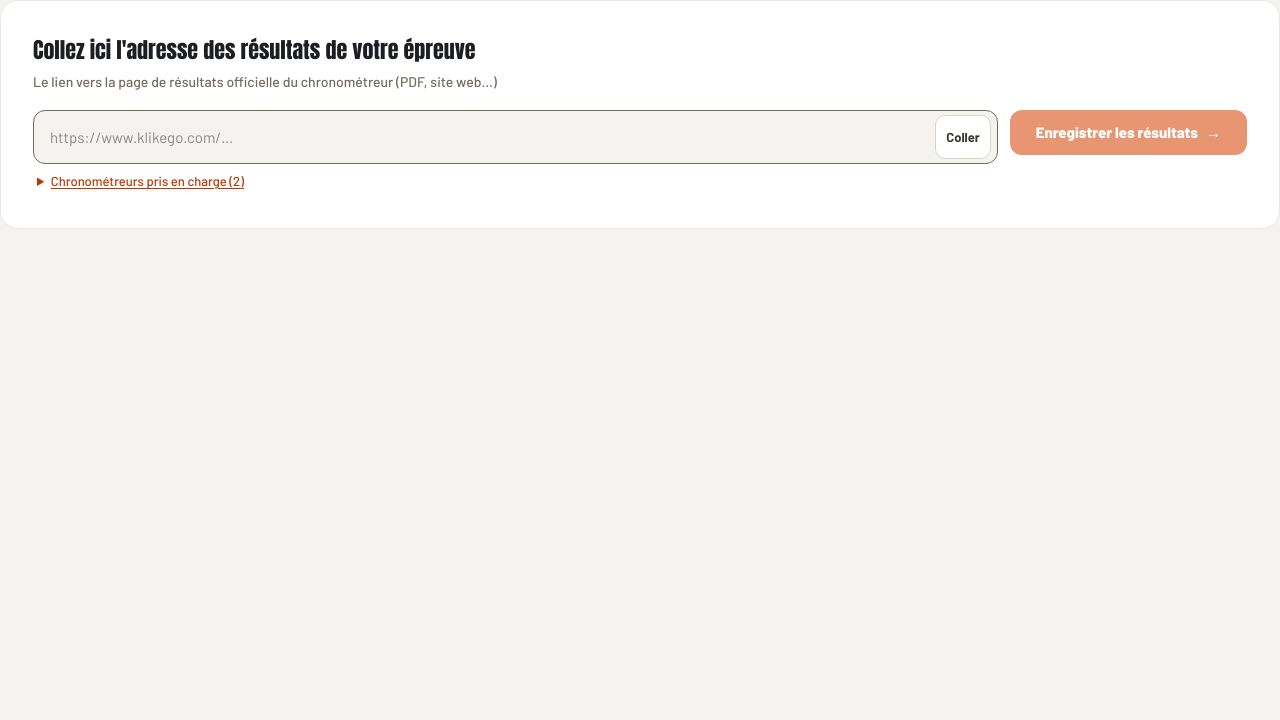
it: TcnScrapeForm — un seul verdict avant d'essayer (#492, ACT-6) › « Saisir à la main » depuis le verdict ouvre le formulaire
Type "https://chronopuce.test/x" into the field named "Adresse des résultats" at [488, 137], box [50,126,925,148]
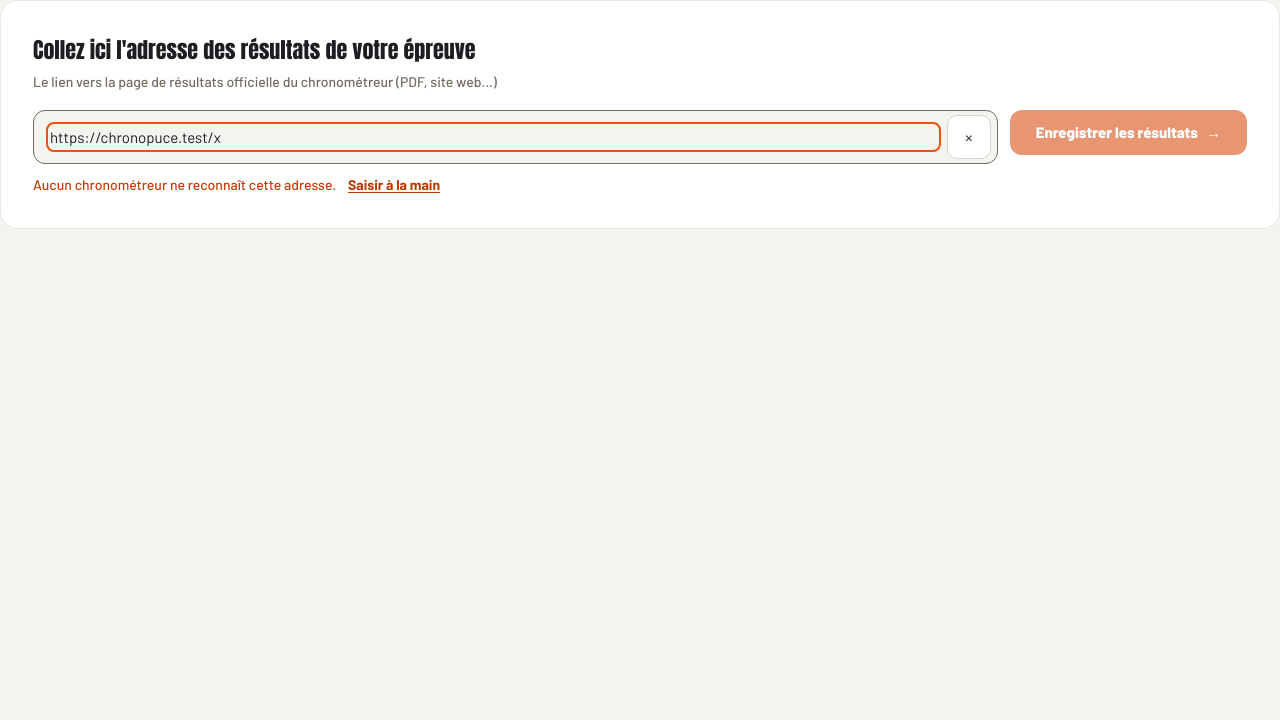
Click the button "Saisir à la main" at [394, 184], box [344,172,444,196]
(page scrolled)
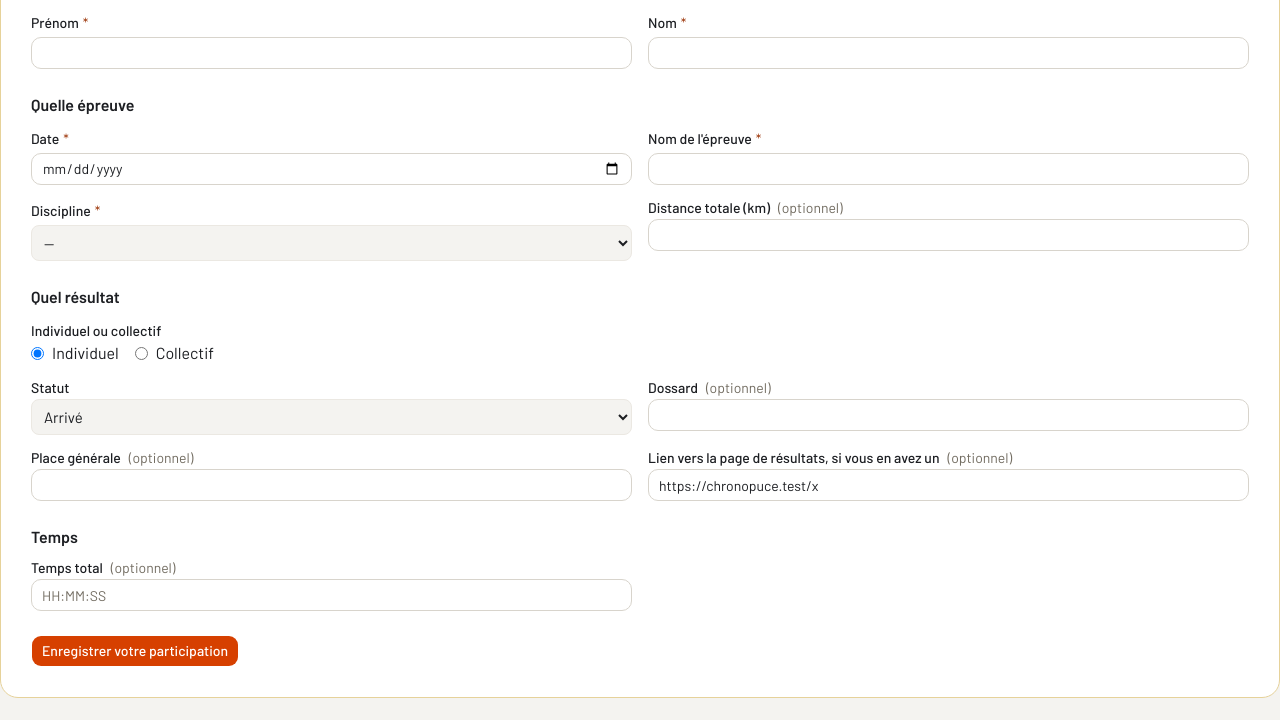
Now the button "Enregistrer votre participation" is shown, box [31,635,239,667]
